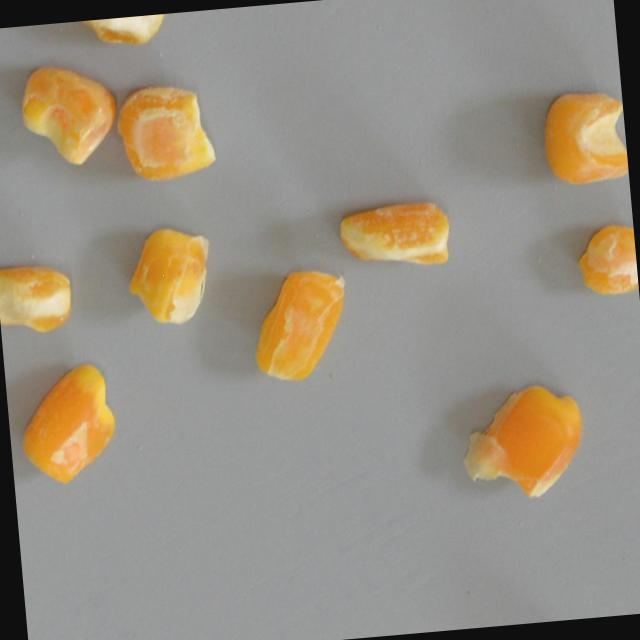pelicula: (455, 379, 591, 504), (12, 363, 119, 487), (12, 56, 119, 172), (246, 266, 350, 383), (115, 81, 219, 184), (121, 221, 214, 327), (332, 193, 454, 273), (536, 86, 629, 188), (0, 261, 74, 336), (43, 12, 166, 55), (572, 220, 639, 297)
